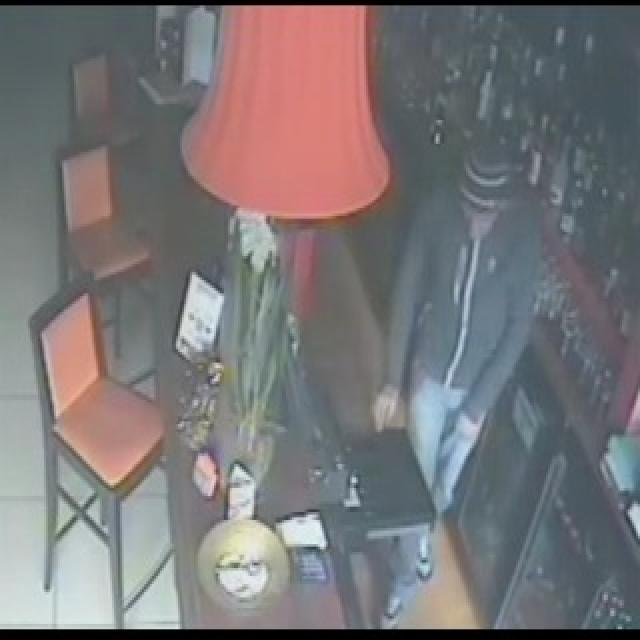thief: (422, 111, 530, 384)
